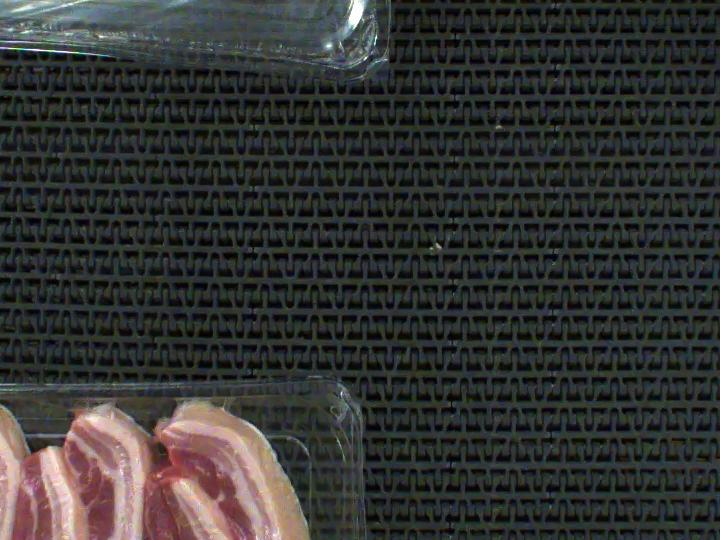packaging-error: (0, 363, 259, 448)
